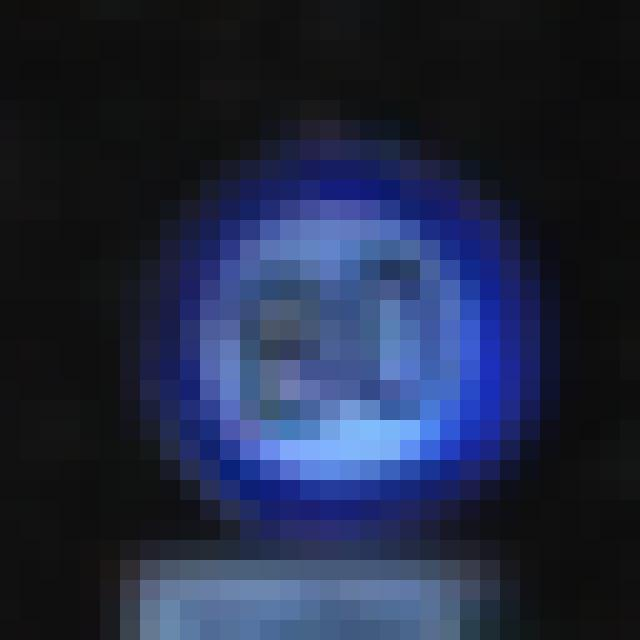SPEED-LIMIT-80: (135, 156, 541, 530)
